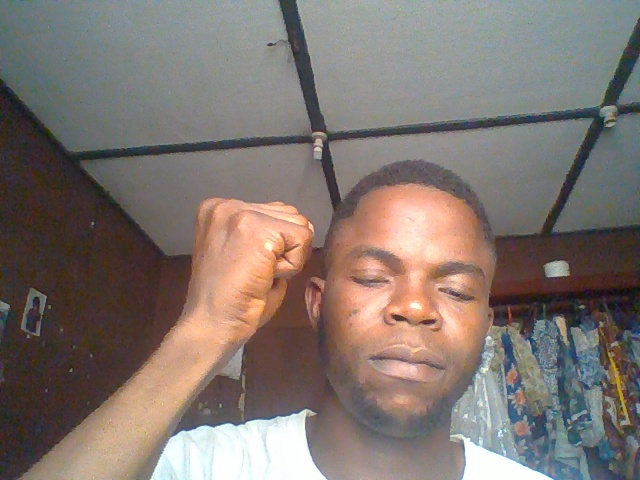Unity: (185, 186, 316, 340)
